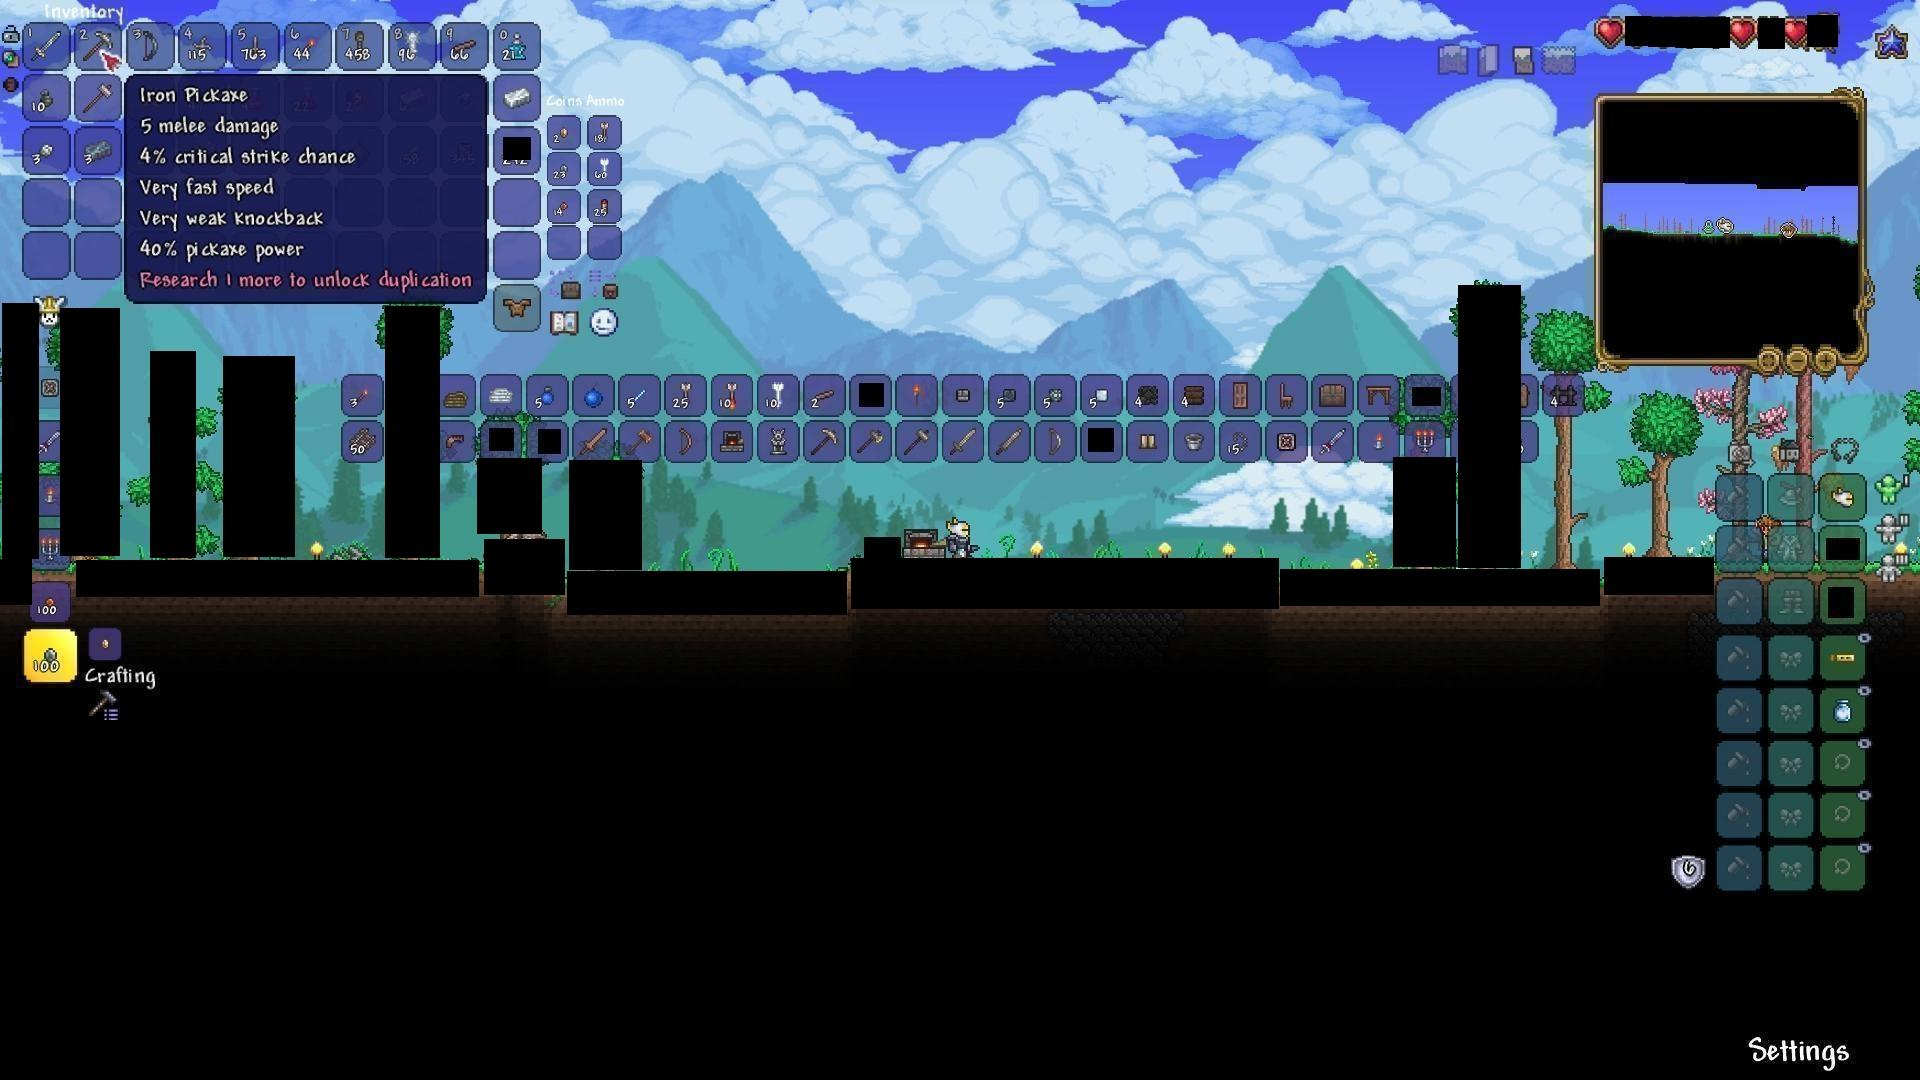breastplate: (501, 295, 535, 322)
heart: (1596, 15, 1627, 45), (1783, 18, 1811, 49), (1730, 17, 1758, 47)
helmet: (1824, 483, 1859, 513), (443, 430, 467, 450)
legs: (1137, 427, 1162, 458)
tree: (1538, 305, 1590, 566), (1629, 388, 1692, 554)
